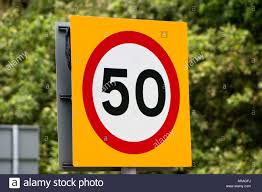Speed_limit_50km: (82, 31, 180, 153)
